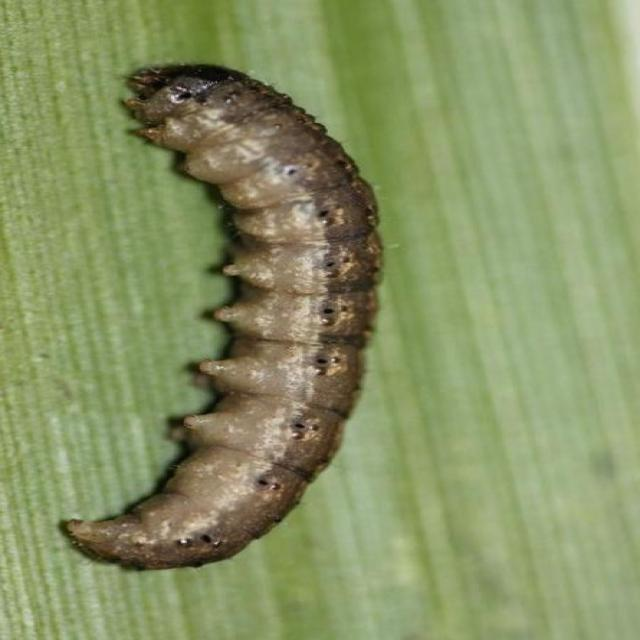black cutworm: (57, 64, 395, 570)
